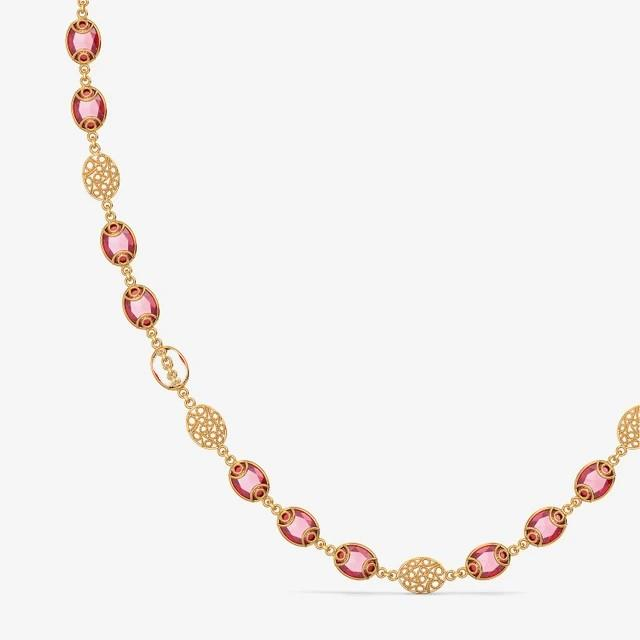missing gem: (150, 346, 189, 389)
